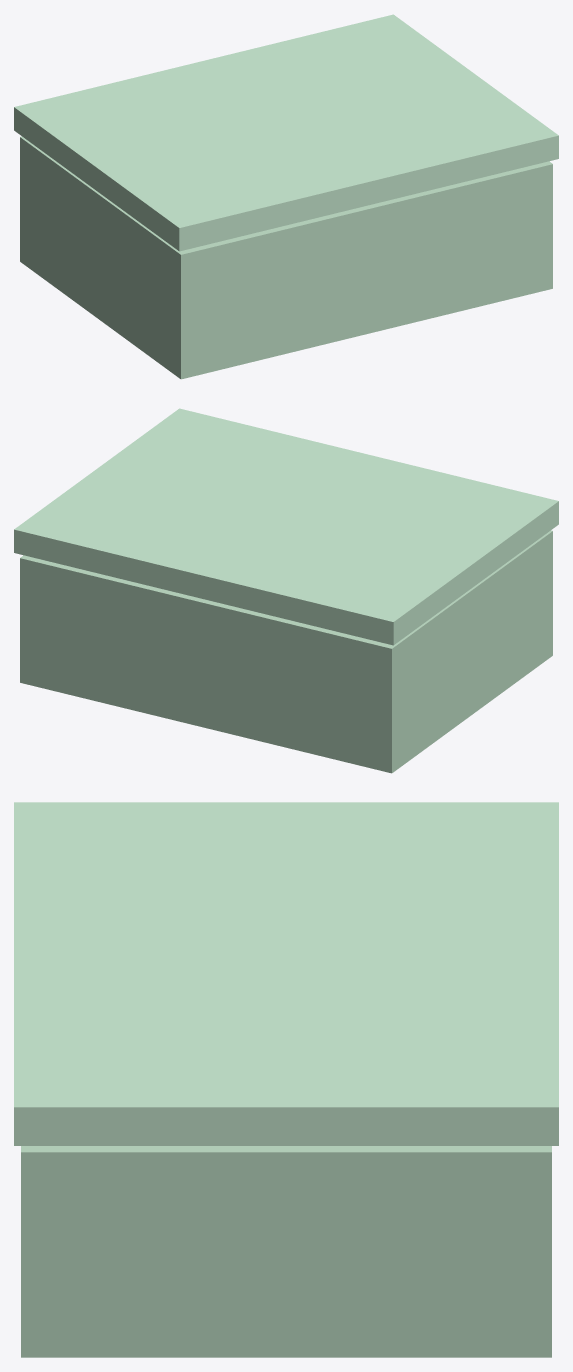
File: takeaway_box.fbx
The picture shows the model from 3 angles, top to bottom: view 1: azimuth 30°, elevation 25°; view 2: azimuth 150°, elevation 25°; view 3: azimuth 270°, elevation 25°; orthographic projection. The views are drawn at different scales.
Parts seen in each view (by area): view 1: takeaway_box; view 2: takeaway_box; view 3: takeaway_box.
Boxes of the visible parts, x1,y1,x2,y2 form: takeaway_box: (14,14,558,379); takeaway_box: (14,408,558,773); takeaway_box: (14,802,558,1357).
Bounding box in the file's own units: 0.102 × 0.0395 × 0.077.
